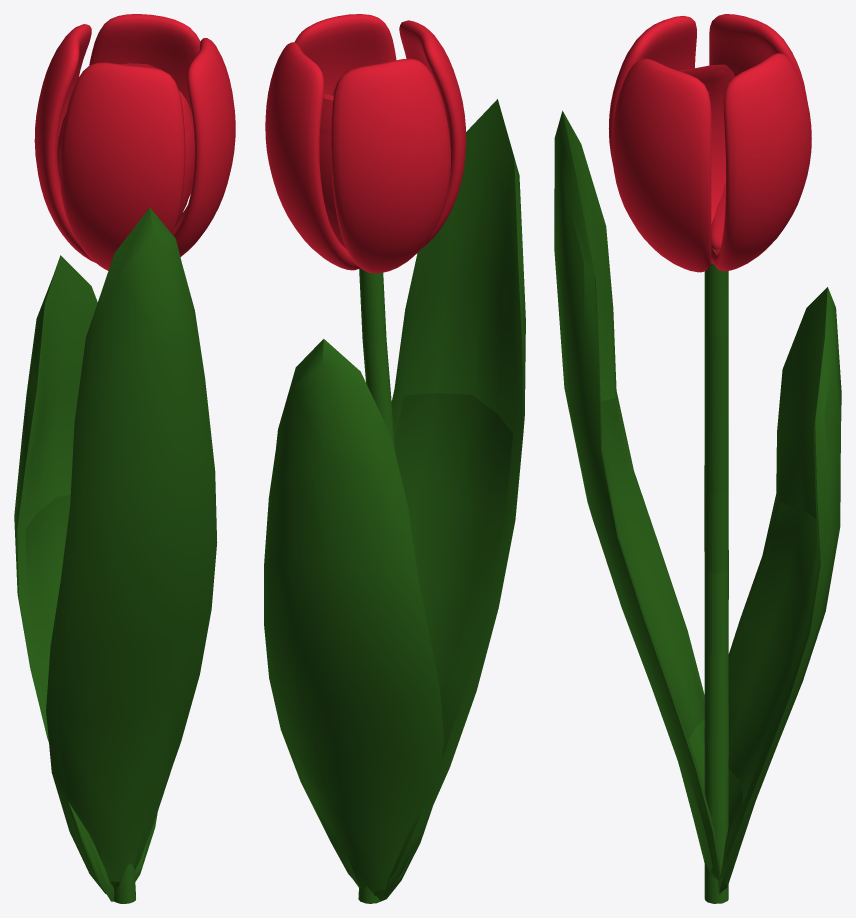
The picture shows the model from 3 angles, left to right: view 1: azimuth 30°, elevation 25°; view 2: azimuth 150°, elevation 25°; view 3: azimuth 270°, elevation 25°; orthographic projection.
Parts seen in each view (by area): view 1: f03; view 2: f03; view 3: f03.
Part boxes in pixels (<box>): f03: <box>14,14,235,903</box>; f03: <box>264,14,525,903</box>; f03: <box>554,14,841,903</box>.
Bounding box in the file's own units: 0.2054 × 0.8458 × 0.2545.
